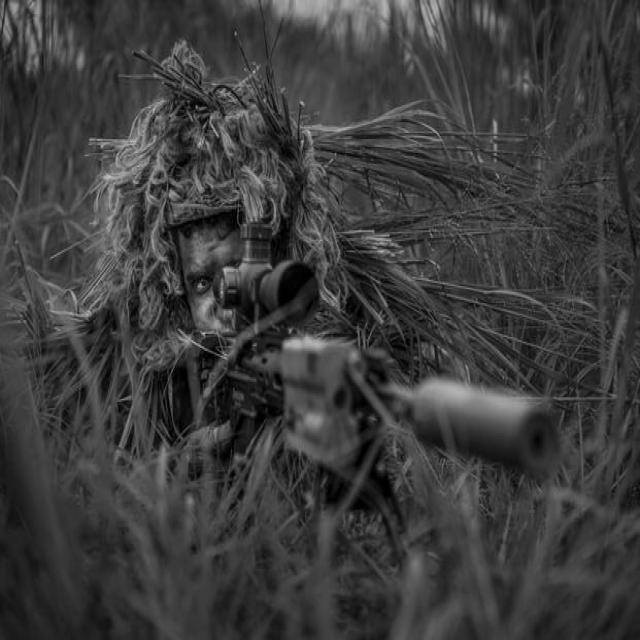Sniper: (175, 210, 622, 580)
